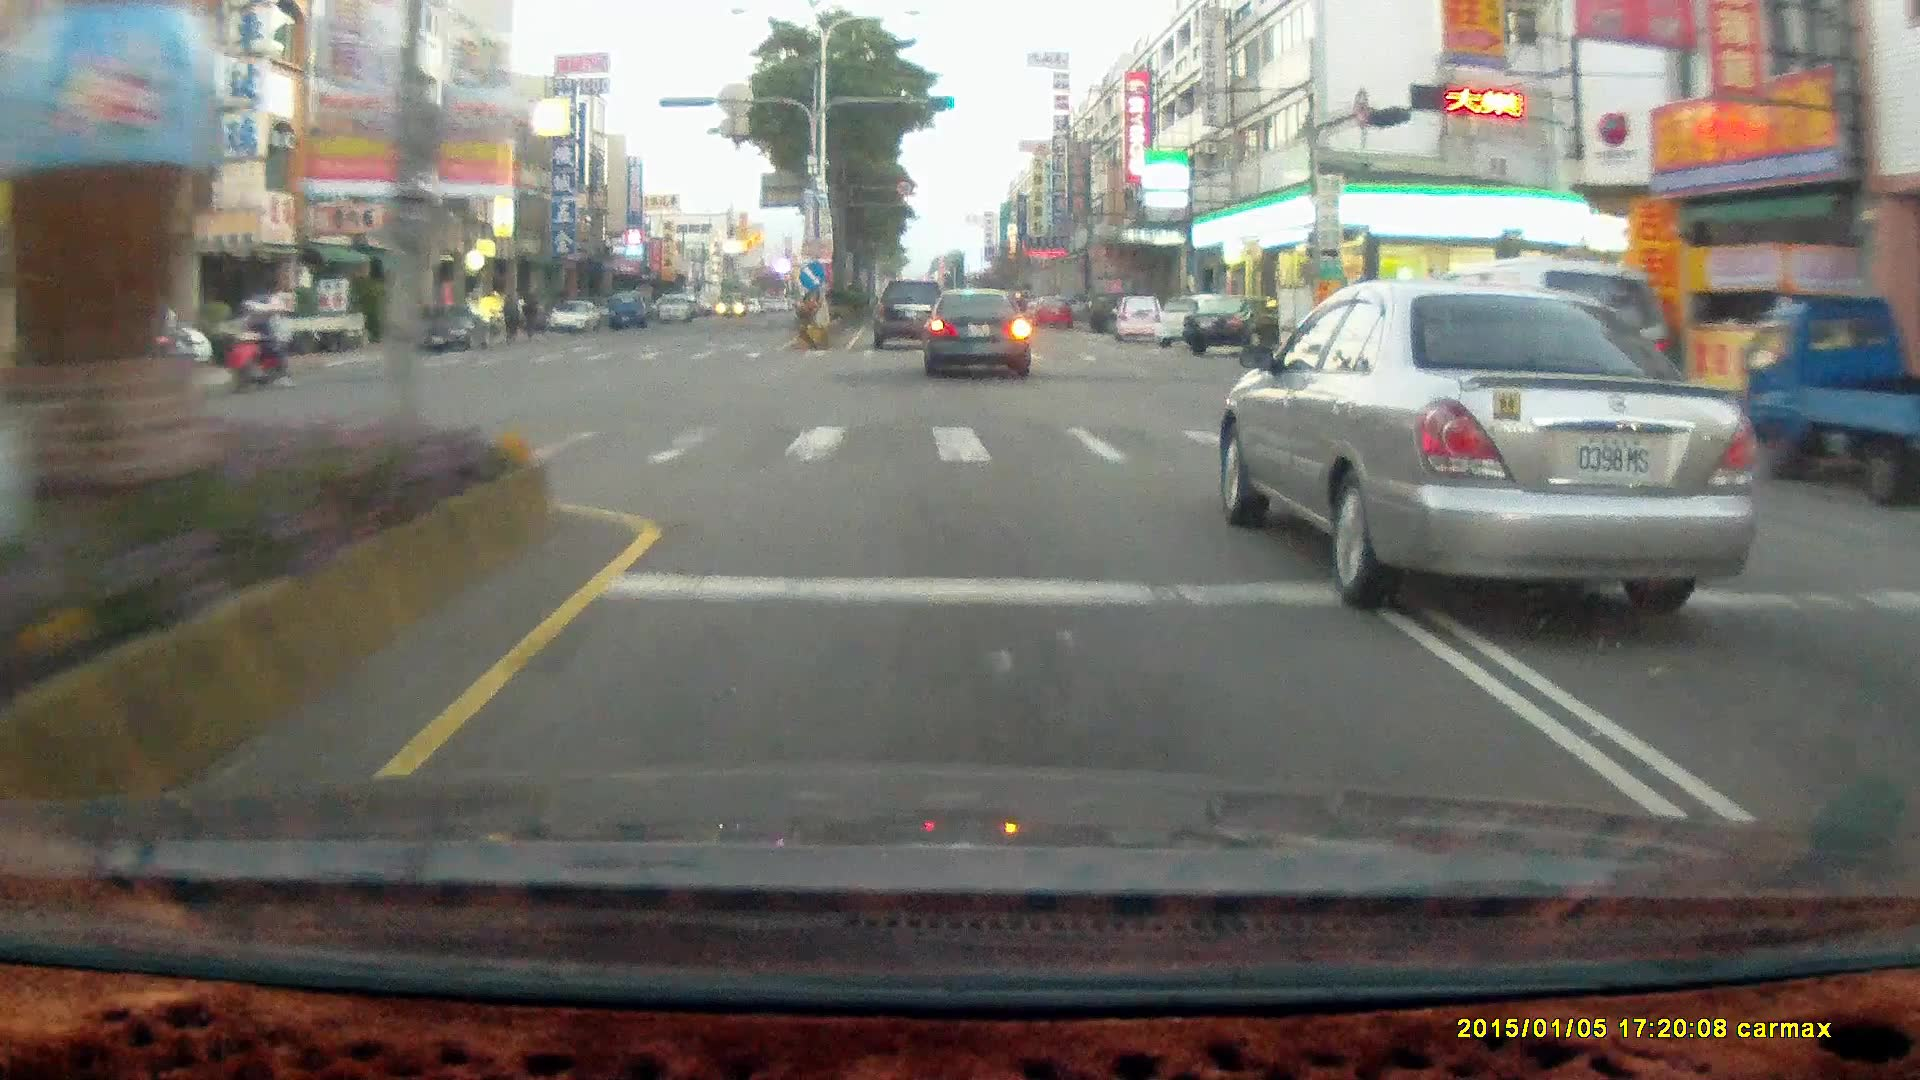pedestrian: (520, 283, 542, 338), (498, 287, 520, 341), (498, 288, 520, 340), (518, 288, 538, 341)
rider: (218, 296, 296, 391)
vehicle: (1220, 281, 1758, 600), (1376, 258, 1680, 455), (1366, 258, 1669, 454), (1739, 293, 1920, 509), (1748, 295, 1920, 503), (16, 304, 190, 380), (231, 292, 372, 366), (206, 293, 364, 356), (924, 291, 1034, 382), (922, 285, 1029, 377), (1181, 292, 1297, 355), (1181, 295, 1282, 357), (871, 276, 946, 350), (871, 278, 947, 349), (1152, 291, 1235, 346), (412, 301, 495, 355), (414, 310, 489, 349), (1115, 297, 1169, 349), (1109, 293, 1166, 342), (1082, 288, 1146, 330), (546, 299, 603, 337), (546, 297, 598, 329), (607, 290, 645, 325), (1030, 294, 1070, 327), (649, 291, 683, 318)
